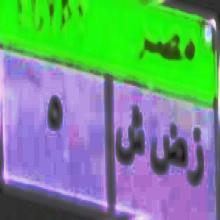5: (42, 90, 65, 139)
daad: (150, 116, 186, 186)
sheen: (117, 100, 144, 176)
zay: (188, 126, 205, 198)
